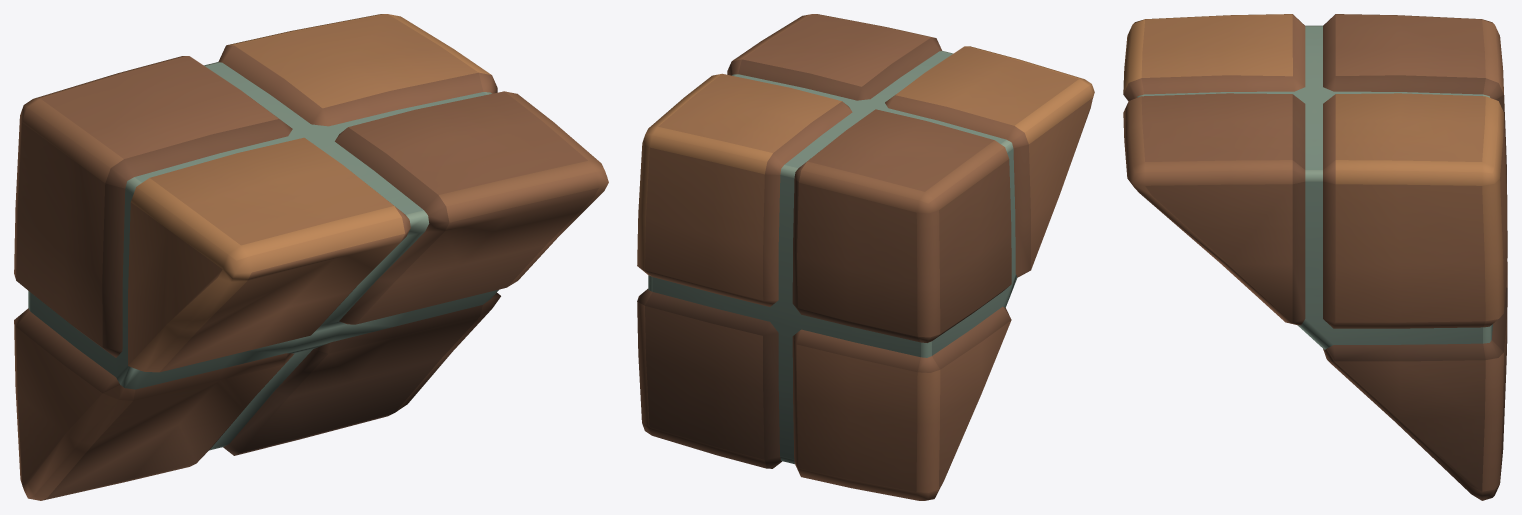
Rendered from Brick_Brown_SlopeUnder_2.fbx.
The picture shows the model from 3 angles, left to right: view 1: azimuth 30°, elevation 25°; view 2: azimuth 150°, elevation 25°; view 3: azimuth 270°, elevation 25°; orthographic projection. The views are drawn at different scales.
Visible parts, largest first — view 1: Brick_Brown_SlopeUnder_2_LOD0; view 2: Brick_Brown_SlopeUnder_2_LOD0; view 3: Brick_Brown_SlopeUnder_2_LOD0.
Boxes of the visible parts, x1,y1,x2,y2 form: Brick_Brown_SlopeUnder_2_LOD0: (14, 14, 608, 500); Brick_Brown_SlopeUnder_2_LOD0: (637, 14, 1094, 500); Brick_Brown_SlopeUnder_2_LOD0: (1123, 14, 1507, 500).
Size of what is drawn, in the model's own units: 1.08 by 1.07 by 1.07.
